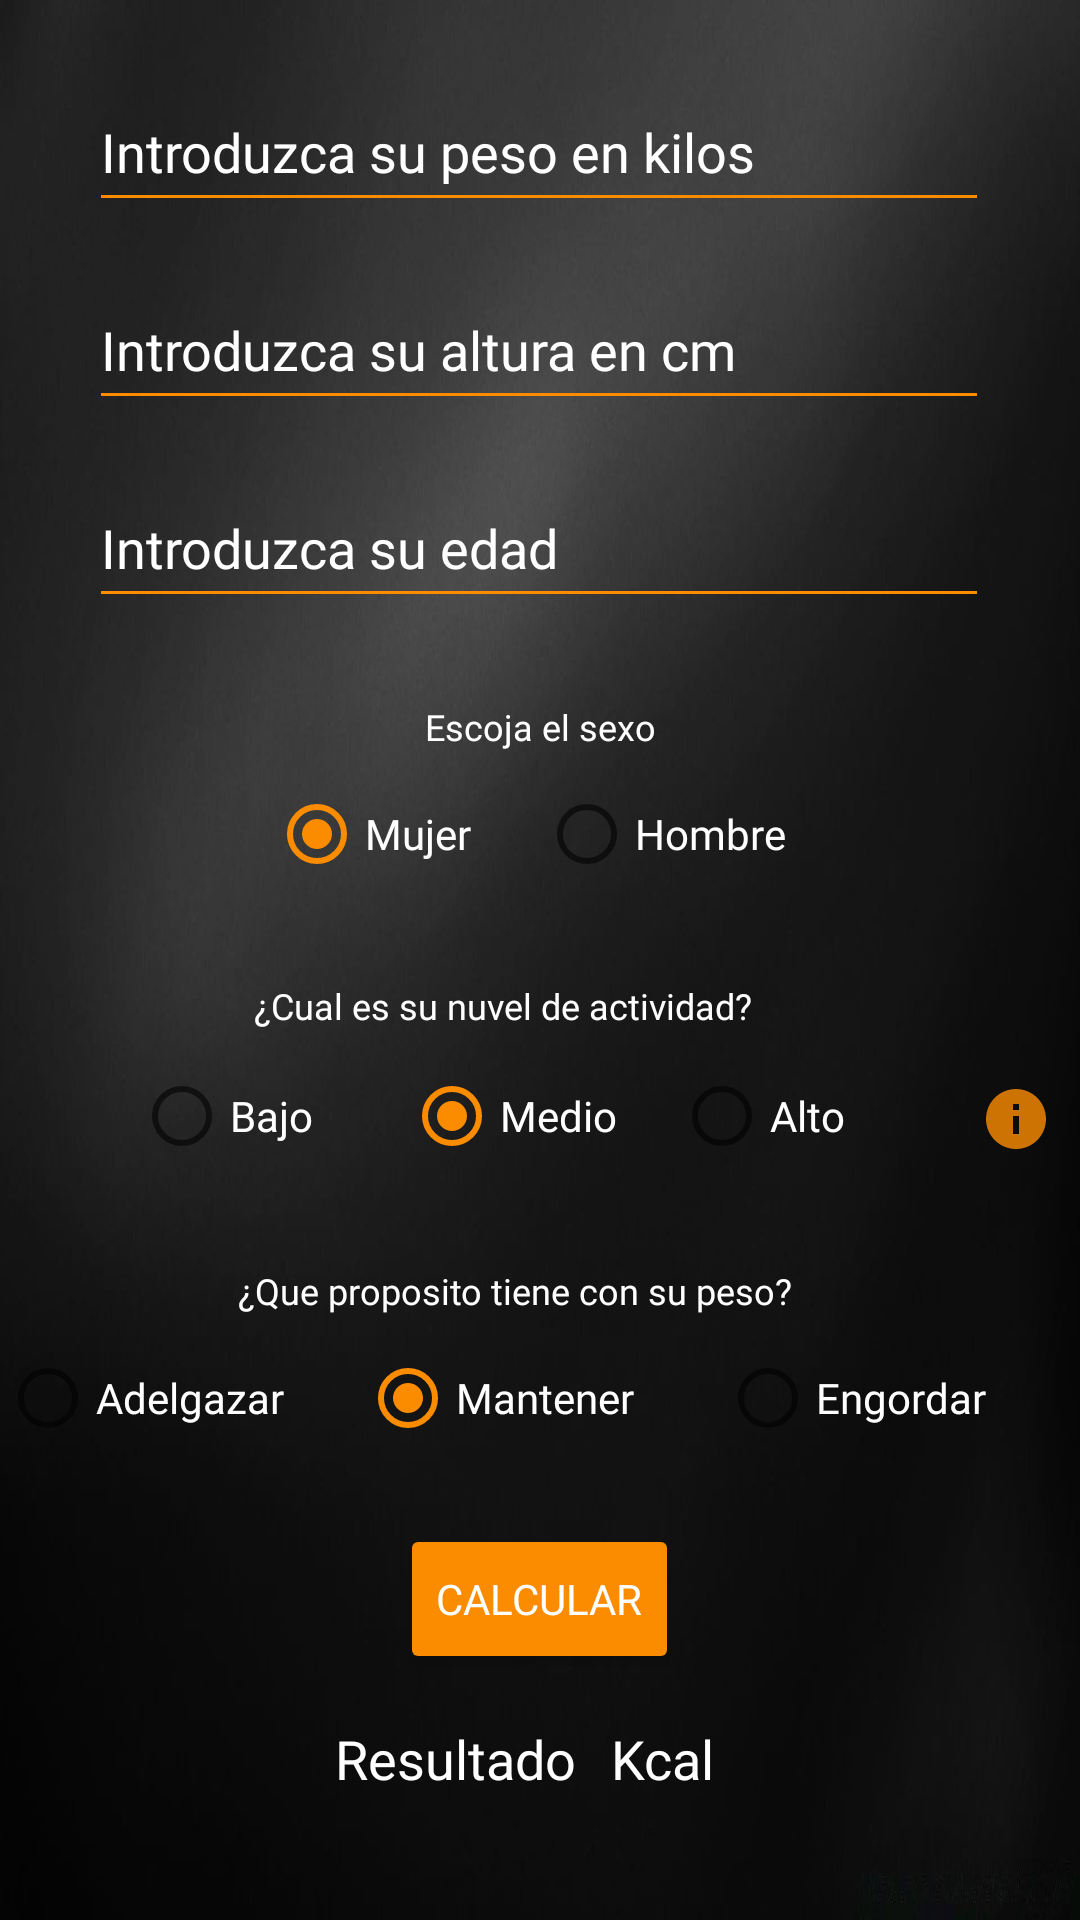

Point at icon controls on the screen. Image size 1080 x 1920, points as (x=x, y=y).
info: (x=1016, y=1119)
